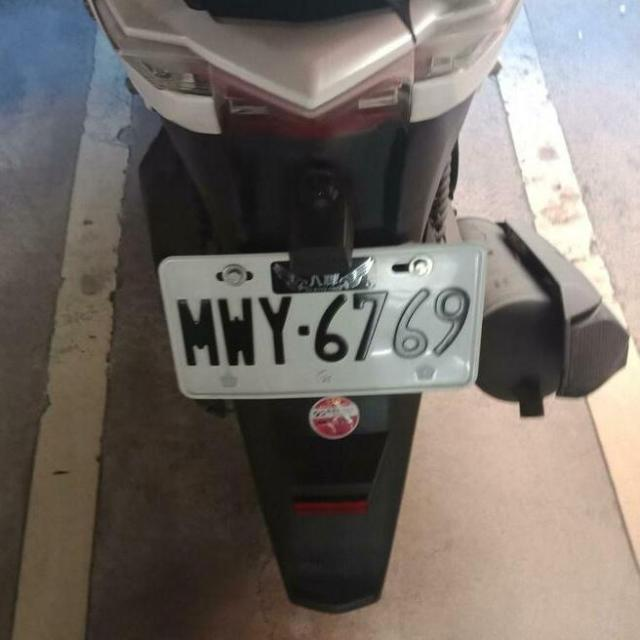W: (149, 226, 495, 417)
